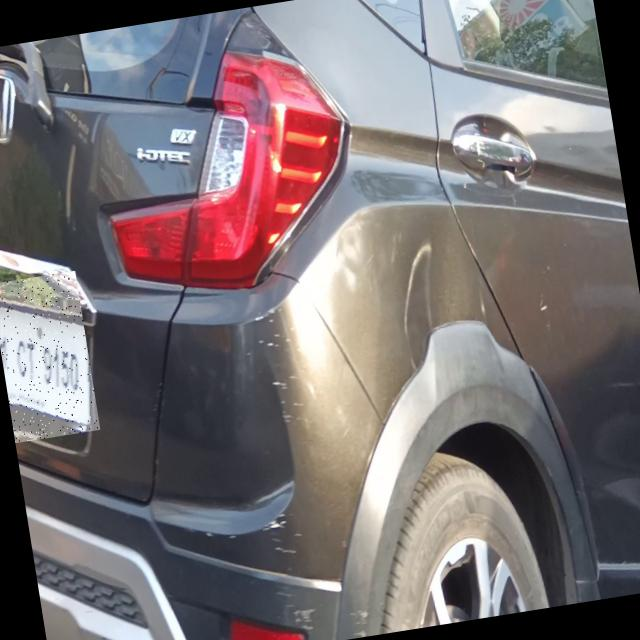Plate: (1, 272, 101, 444)
